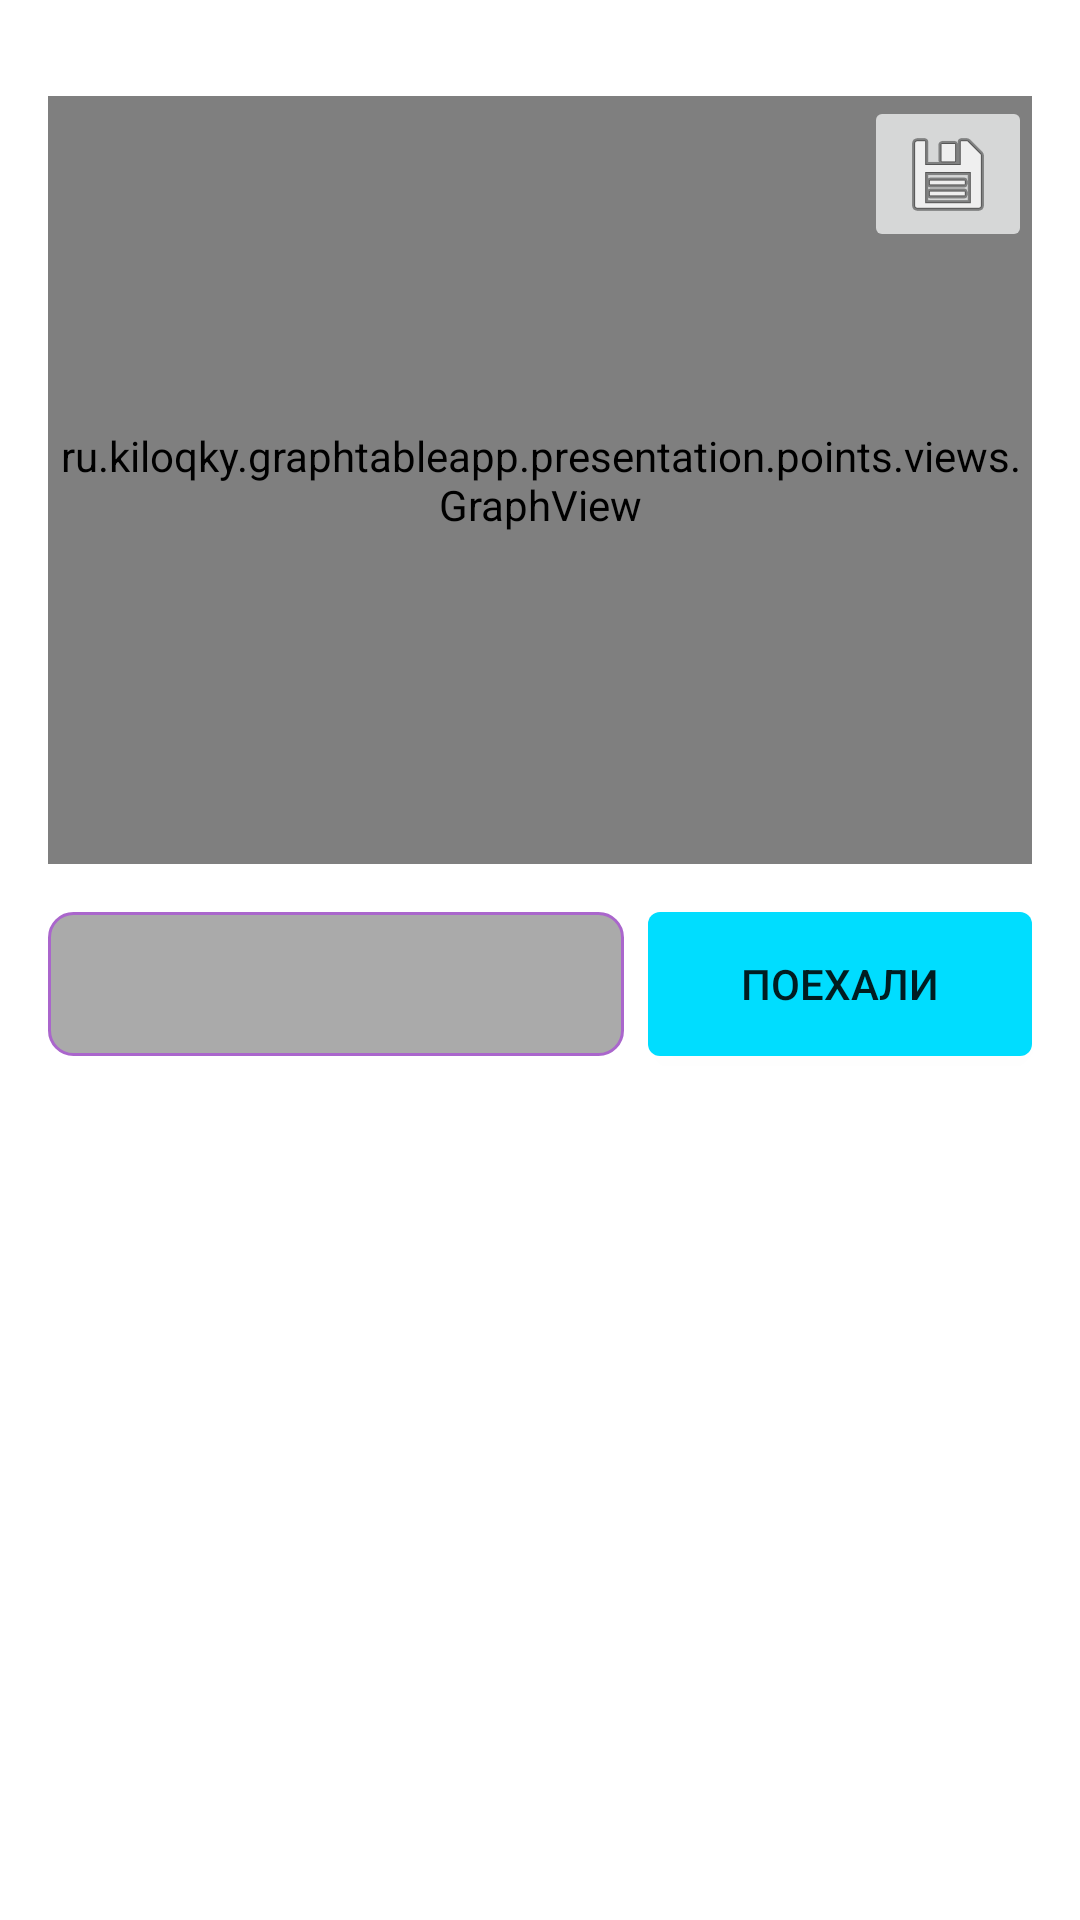

Named icons in this screenshot (1080w x 1920h) and their bounding boxes, (x1, y1, x2, y2):
save: (876, 114, 1020, 234)
